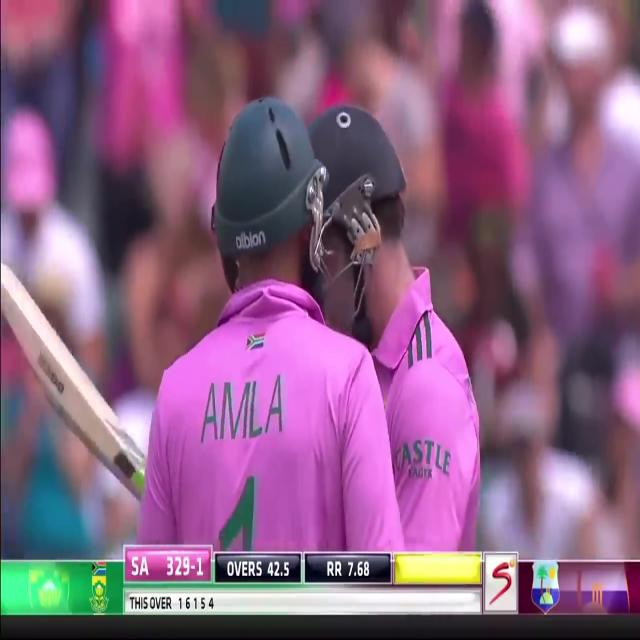Ball: (135, 96, 404, 555), (0, 12, 137, 568)
